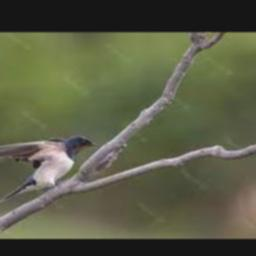Swallow: (0, 135, 98, 206)
